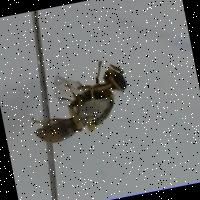Oriental-fruit-fly: (3, 50, 147, 162)
